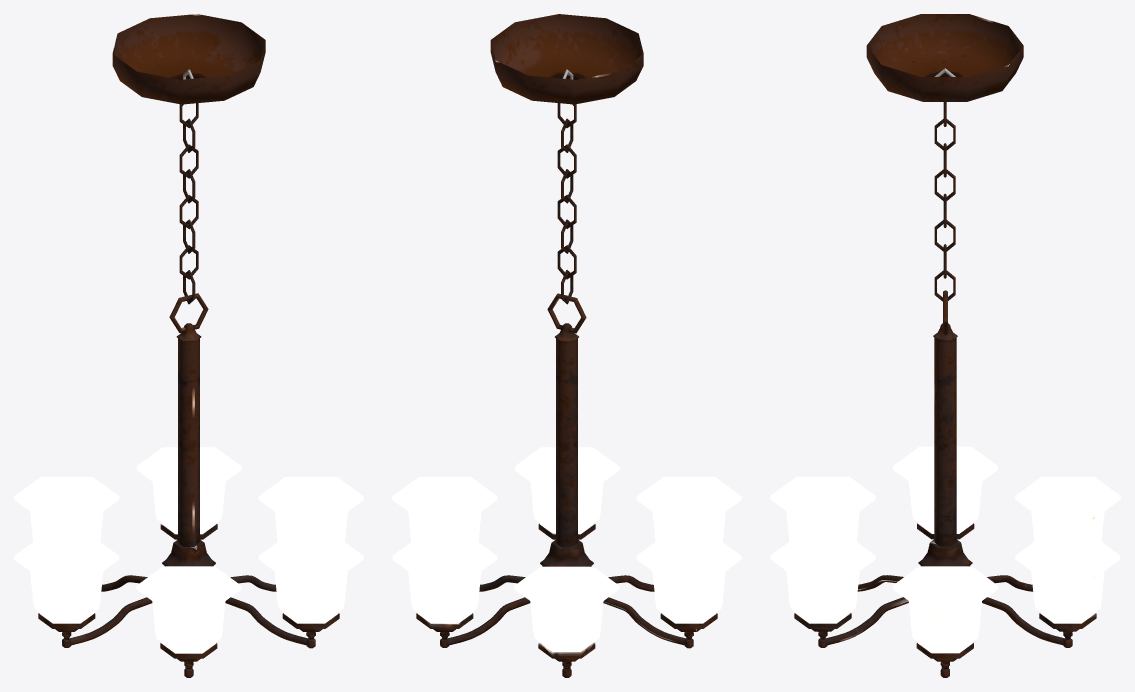
File: light_chandelier.fbx
The picture shows the model from 3 angles, left to right: view 1: azimuth 30°, elevation 25°; view 2: azimuth 150°, elevation 25°; view 3: azimuth 270°, elevation 25°; orthographic projection.
Parts seen in each view (by area): view 1: Cylinder.031; view 2: Cylinder.031; view 3: Cylinder.031.
Part boxes in pixels (box(x1,y1,x2,y2)): Cylinder.031: box(14, 14, 363, 677); Cylinder.031: box(392, 14, 741, 677); Cylinder.031: box(770, 14, 1120, 677).
Size of the model in its own units: 85 by 146 by 79.6.
